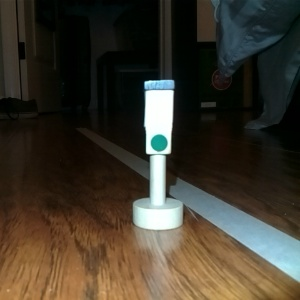traffic light green: (130, 77, 186, 232)
